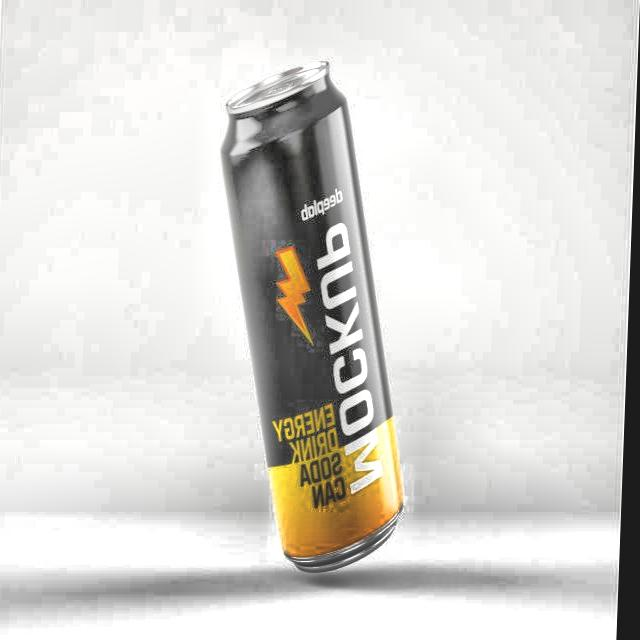can: (204, 54, 432, 578)
